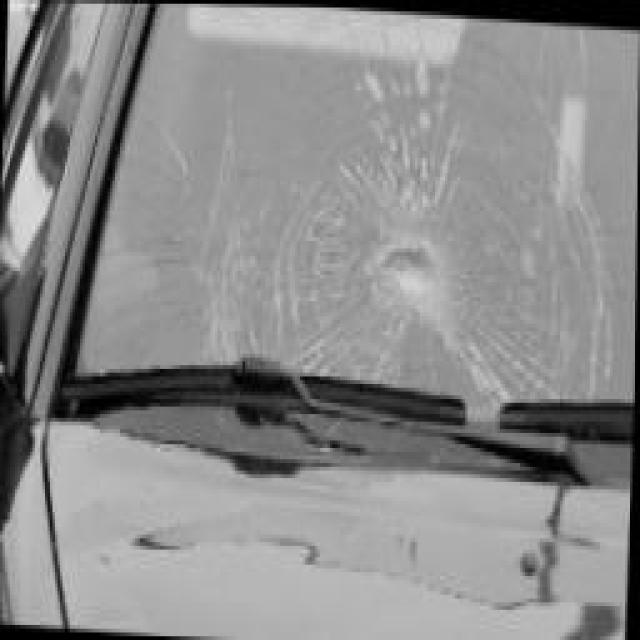Windshield: (65, 3, 640, 481)
